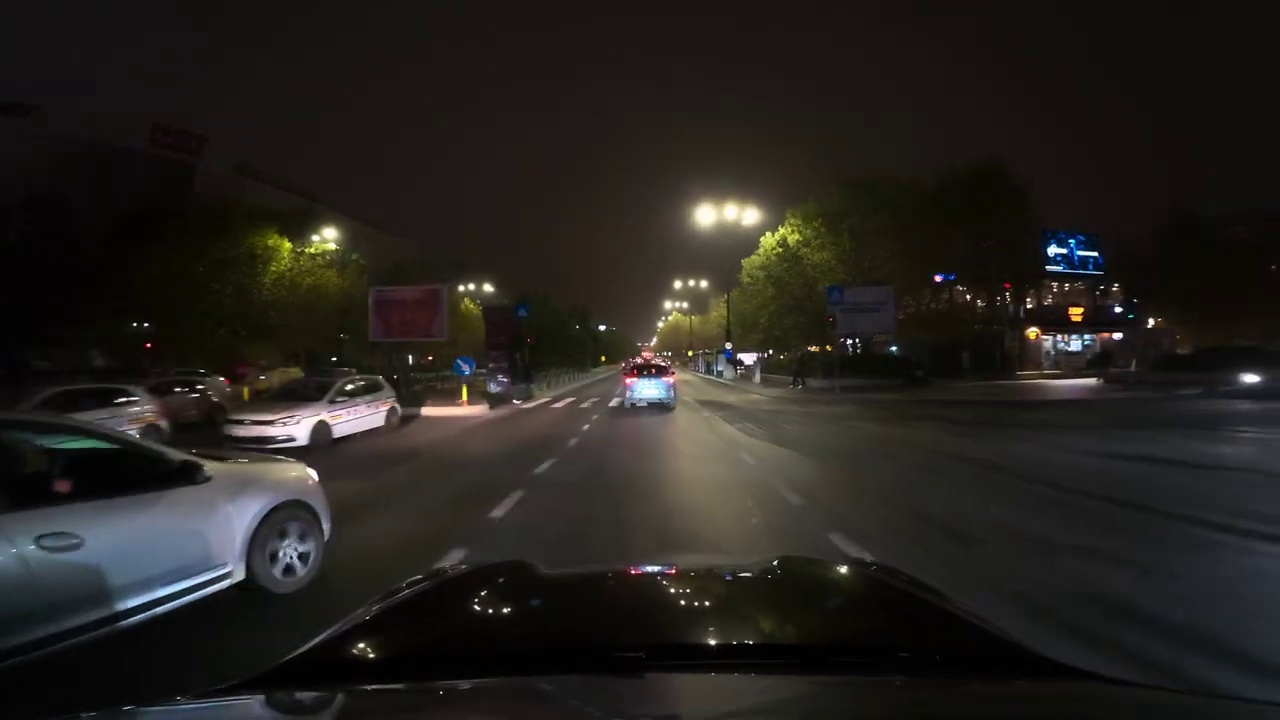acesa: (695, 201, 761, 231), (691, 199, 732, 232), (307, 225, 339, 253)
